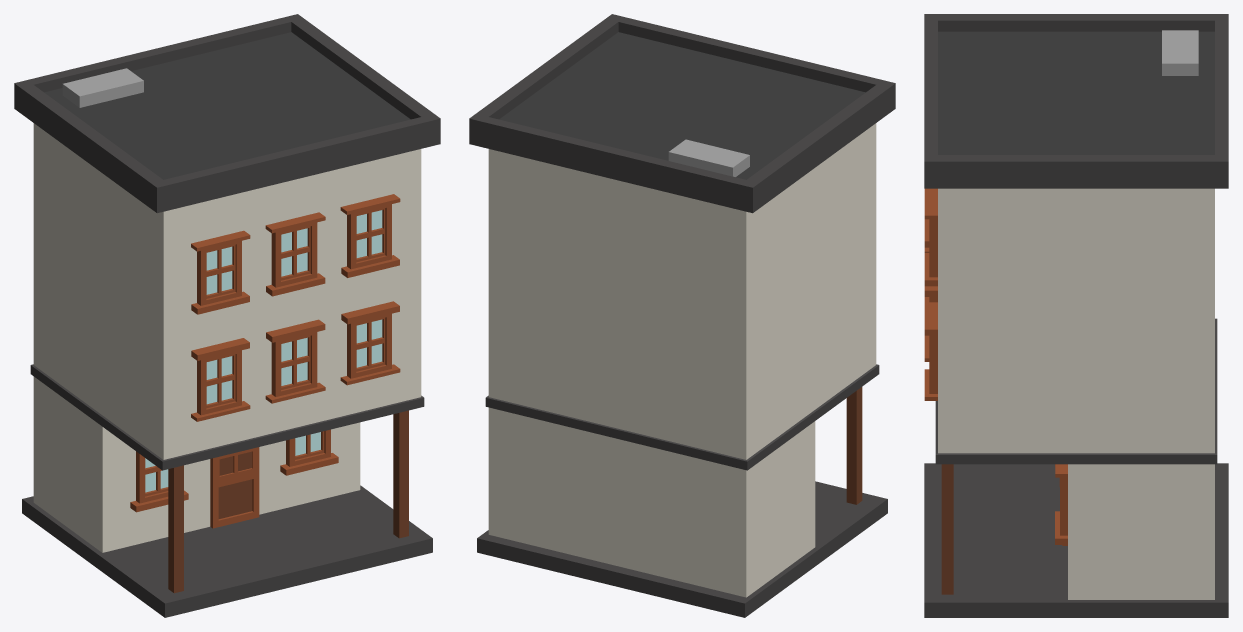
The model's file is flat_b.glb.
3 renders of one model, left to right at view 1: azimuth 30°, elevation 25°; view 2: azimuth 150°, elevation 25°; view 3: azimuth 270°, elevation 25°, orthographic. The views are drawn at different scales.
Parts seen in each view (by area): view 1: flat_b; view 2: flat_b; view 3: flat_b.
Part boxes in pixels (bbox=[...]): flat_b: bbox=[14, 14, 440, 617]; flat_b: bbox=[469, 14, 895, 617]; flat_b: bbox=[924, 14, 1228, 617].
Size of the model in its own units: 2.17 by 3.17 by 1.89.
Materials: 1 (1 with a texture image).
